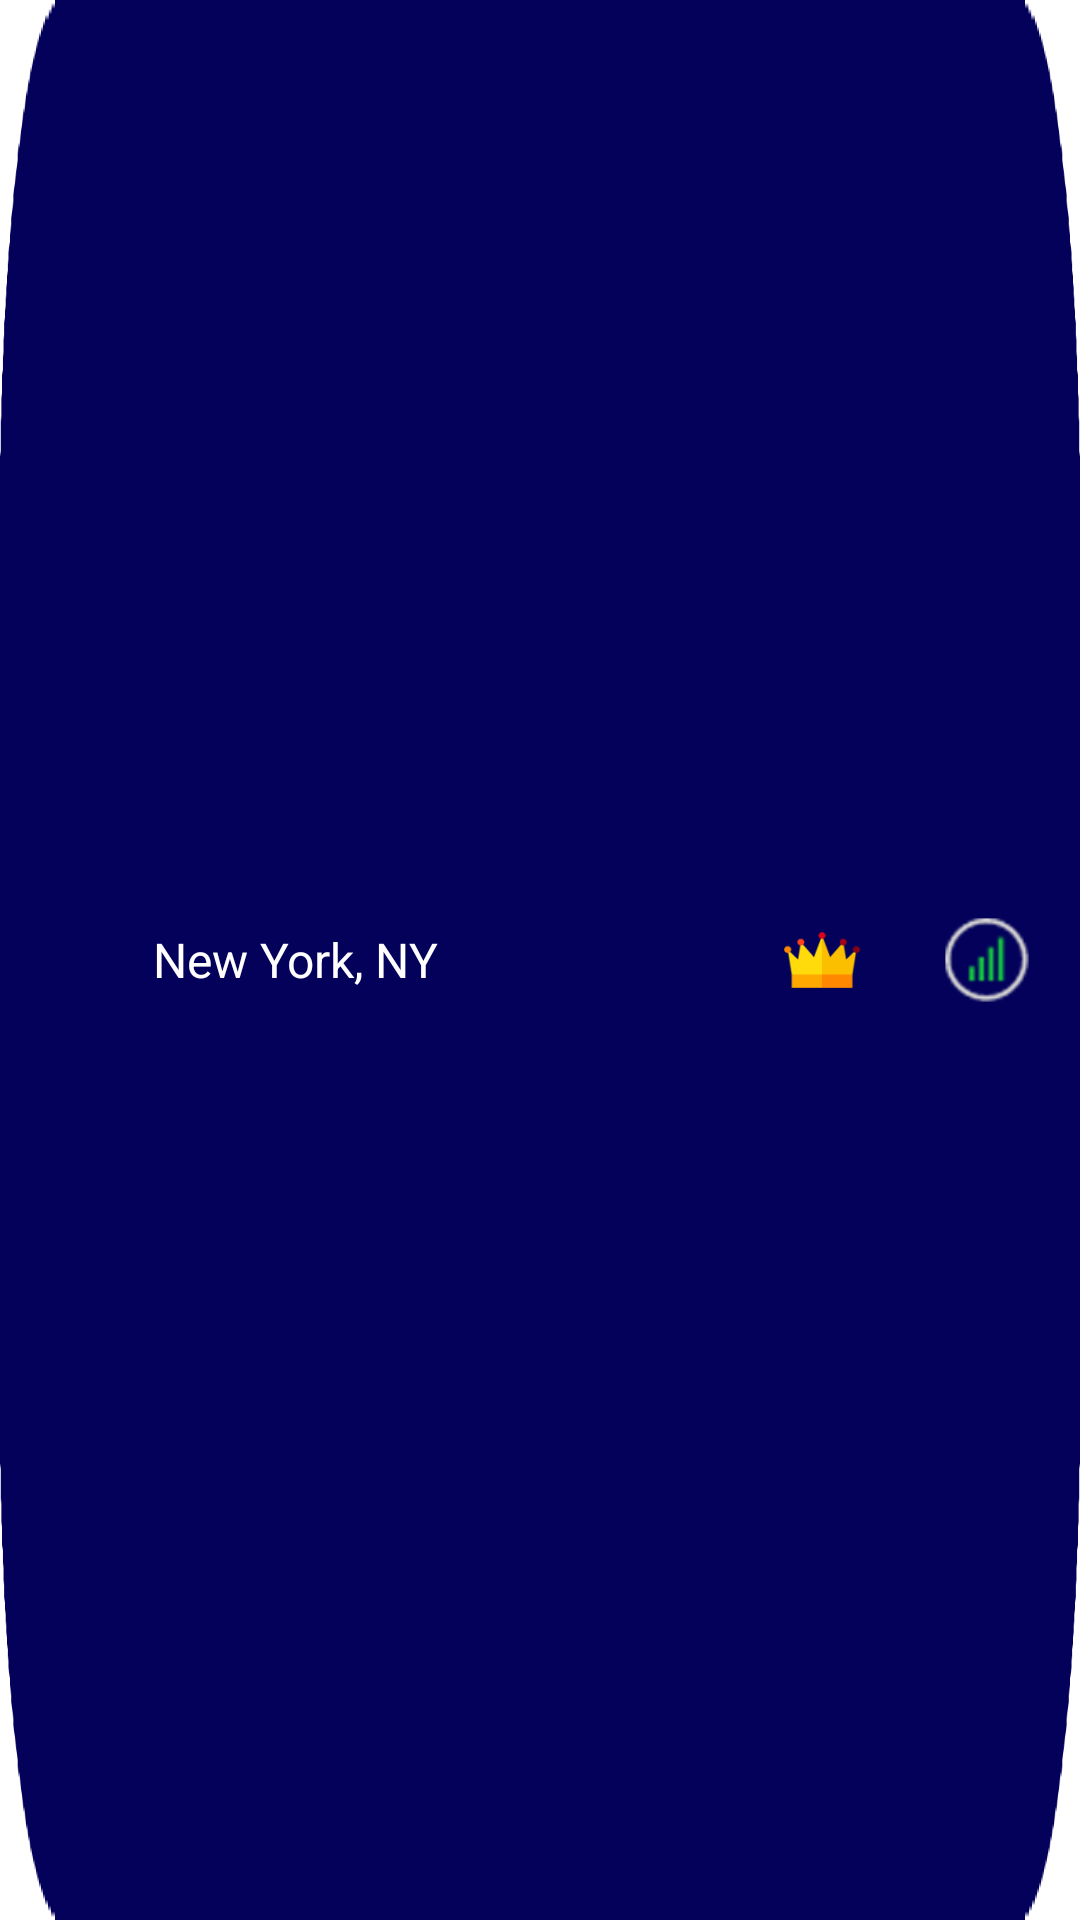

Icon bounding boxes for this 1080×1920 phone screenshot, format (x1=x1, y1=y1, x2=x2, y2=y2):
premium: (x1=784, y1=932, x2=860, y2=988)
server signal: (x1=945, y1=918, x2=1029, y2=1002)
